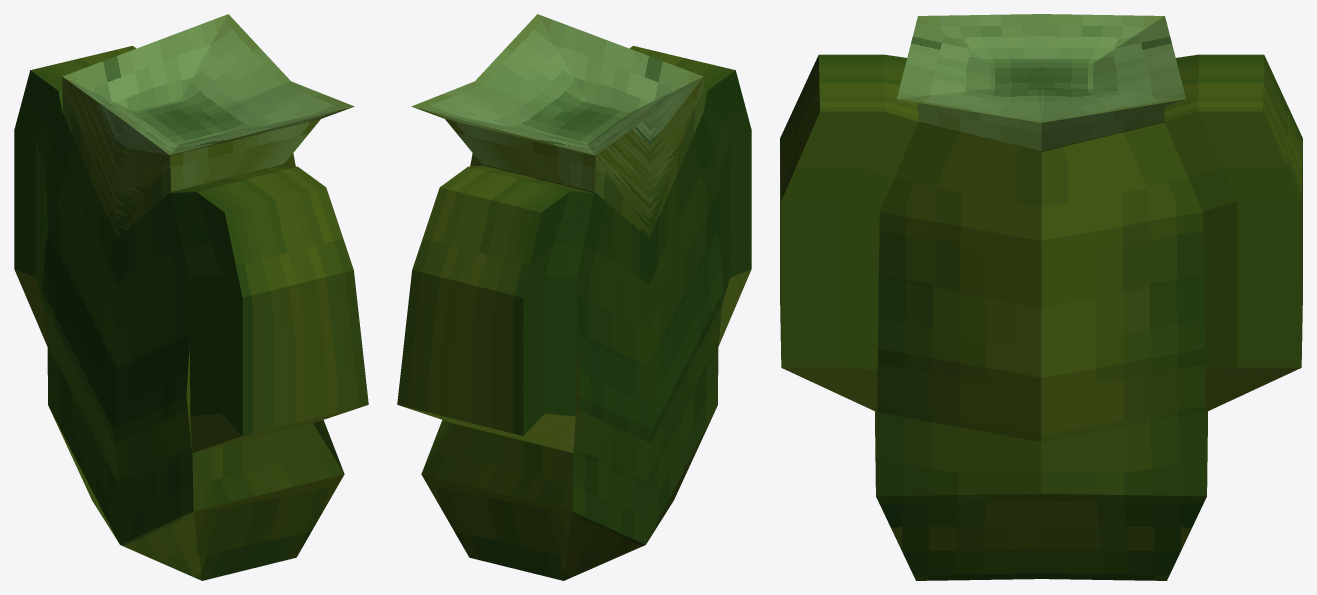
The model's file is narator.fbx.
3 renders of one model, left to right at view 1: azimuth 30°, elevation 25°; view 2: azimuth 150°, elevation 25°; view 3: azimuth 270°, elevation 25°, orthographic. The views are drawn at different scales.
Parts seen in each view (by area): view 1: Cube; view 2: Cube; view 3: Cube.
Part boxes in pixels (left/top/right/bottom): Cube: left=14, top=14, right=368, bottom=580; Cube: left=397, top=14, right=751, bottom=580; Cube: left=780, top=14, right=1302, bottom=580.
Bounding box in the file's own units: 230 × 518 × 482.
1 material, 1 textured.
